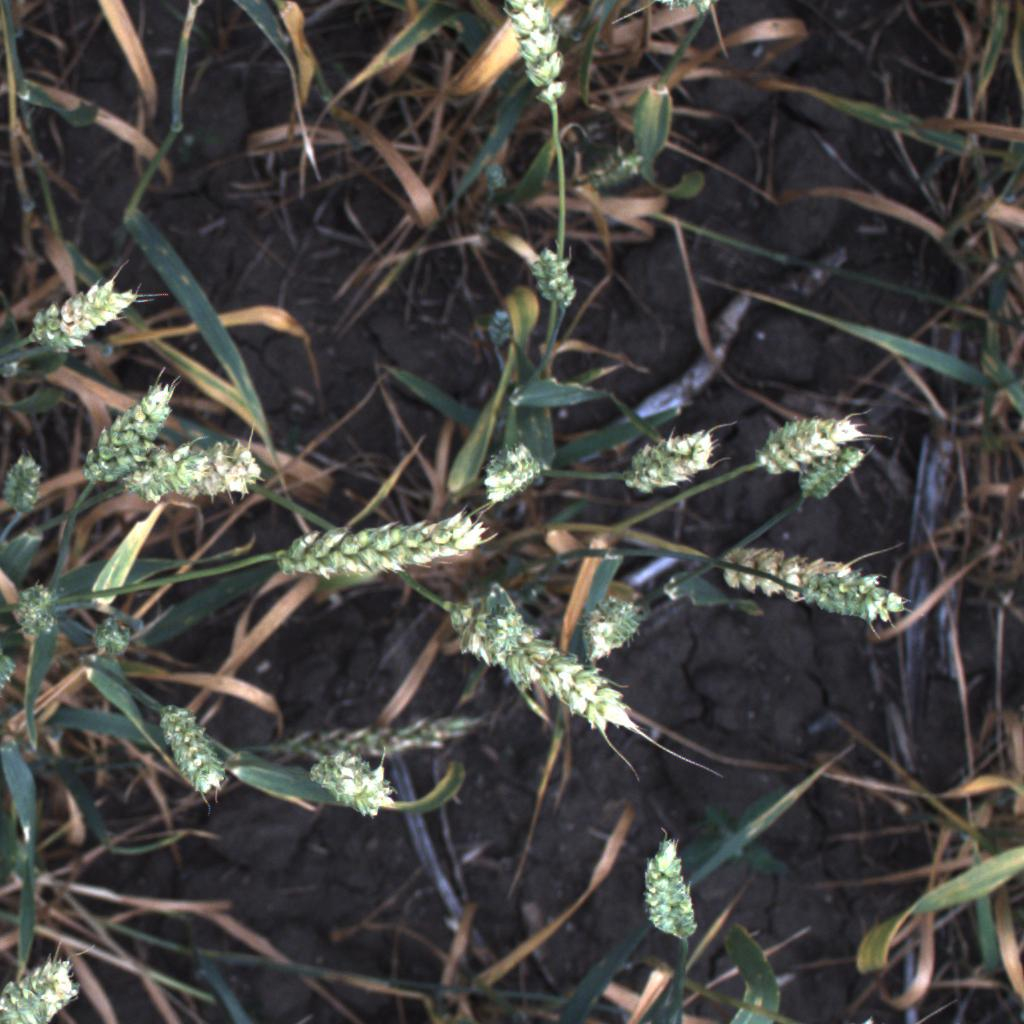0-0: (446, 600, 640, 735), (272, 505, 498, 586), (719, 542, 911, 630), (77, 366, 186, 493), (121, 425, 265, 514), (274, 707, 486, 766), (25, 268, 147, 359), (297, 736, 412, 830), (745, 405, 881, 480), (153, 690, 244, 801), (615, 415, 725, 506), (637, 819, 706, 955), (496, 0, 576, 115), (0, 943, 89, 1024), (781, 439, 877, 506), (577, 590, 653, 666), (471, 439, 551, 510), (522, 243, 584, 316), (1, 448, 56, 530), (13, 572, 66, 647), (478, 599, 539, 659), (91, 618, 138, 658)
